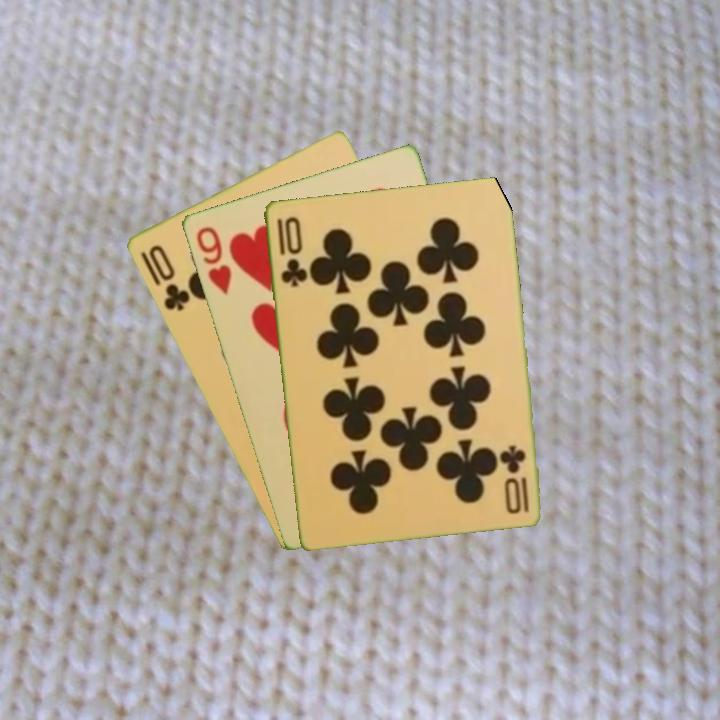10c: (144, 241, 193, 314), (272, 212, 308, 290), (499, 441, 532, 515)
9h: (192, 222, 234, 297)
